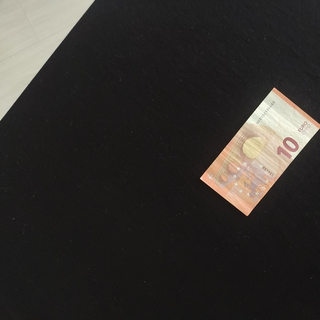10EUROBack: (199, 87, 320, 216)
